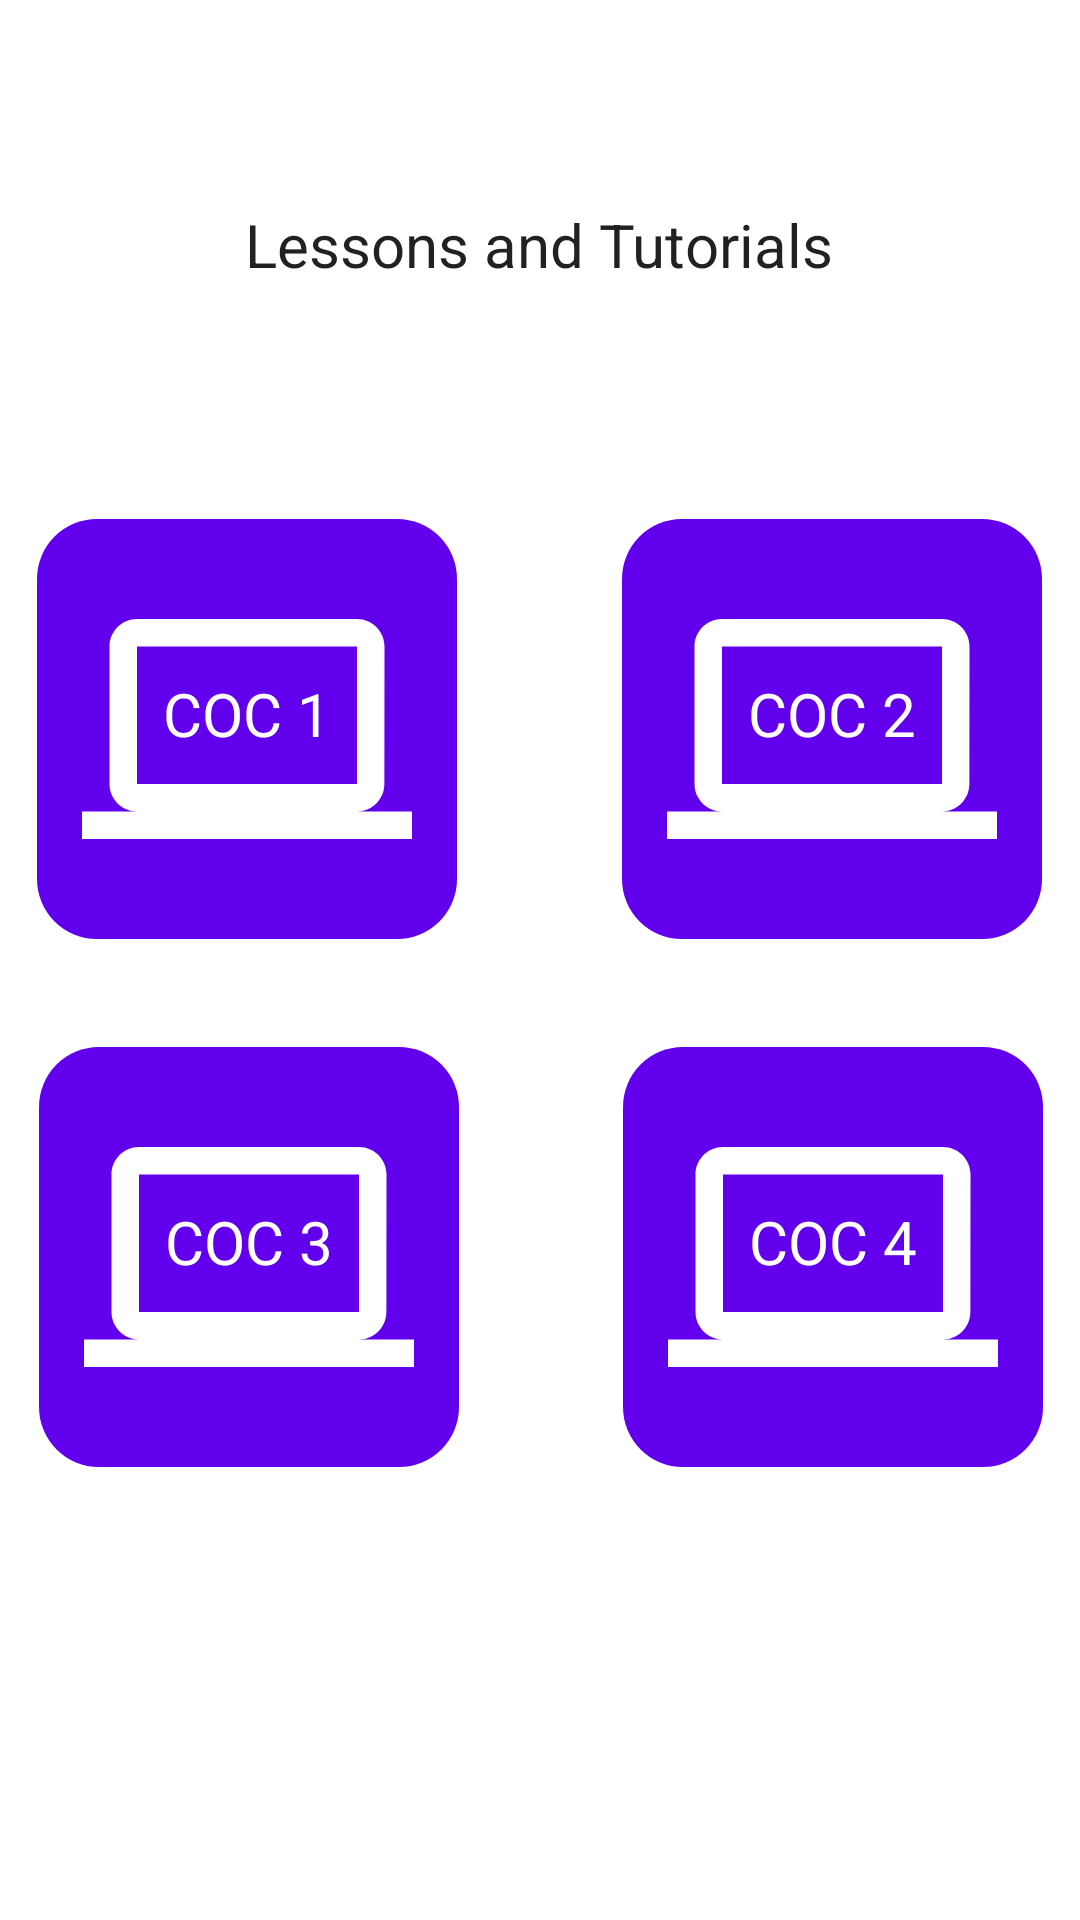

Named icons in this screenshot (1080 × 1920) and their centers, [x,y]:
comp: [247,729], [832,729], [249,1257], [833,1257]
